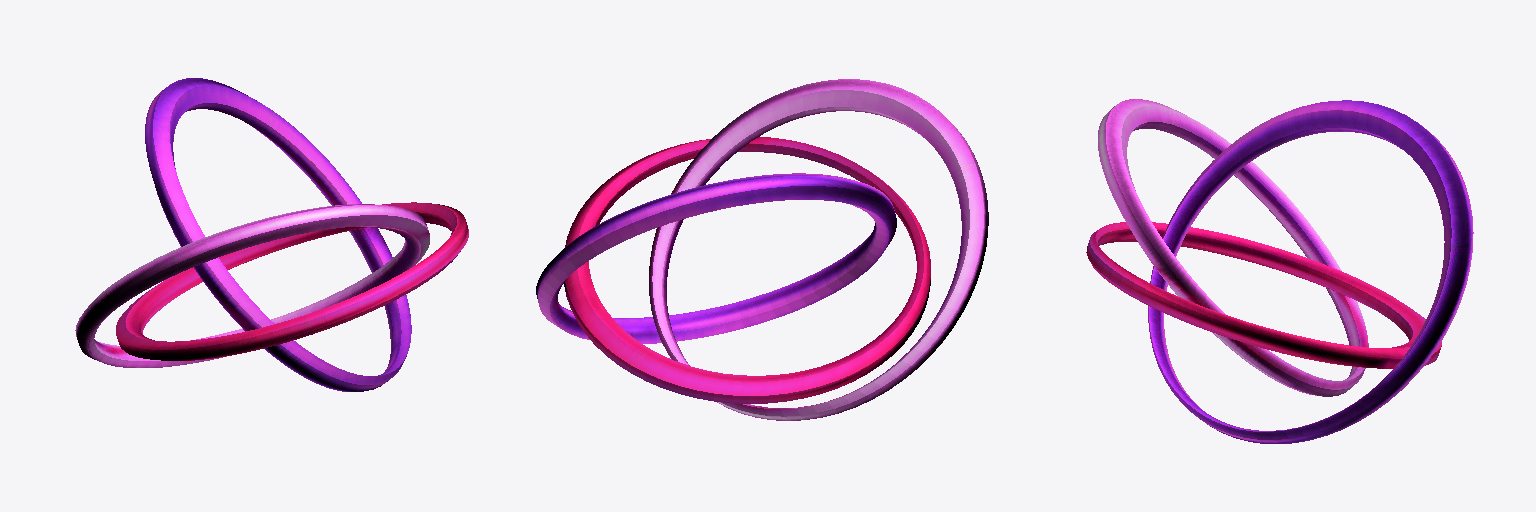
3 renders of one model, left to right at view 1: azimuth 30°, elevation 25°; view 2: azimuth 150°, elevation 25°; view 3: azimuth 270°, elevation 25°, orthographic.
Parts seen in each view (by area): view 1: Torus:003_Torus:000.000_Torus:003_Torus:000.001; view 2: Torus:003_Torus:000.000_Torus:003_Torus:000.001; view 3: Torus:003_Torus:000.000_Torus:003_Torus:000.001.
Part boxes in pixels (bbox=[...]): Torus:003_Torus:000.000_Torus:003_Torus:000.001: bbox=[75, 78, 468, 391]; Torus:003_Torus:000.000_Torus:003_Torus:000.001: bbox=[536, 79, 988, 420]; Torus:003_Torus:000.000_Torus:003_Torus:000.001: bbox=[1086, 99, 1473, 443].
Bounding box in the file's own units: 10.87 × 7.11 × 9.79.
Materials: 1 (1 with a texture image).